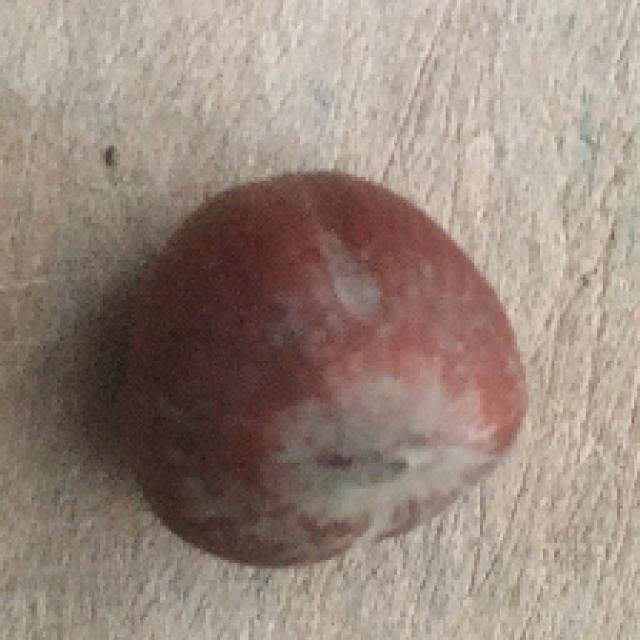qualityHazelnut: (104, 167, 526, 575)
